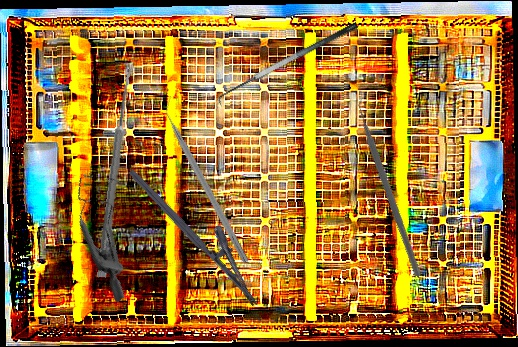Chopper: (296, 92, 489, 278), (157, 94, 258, 265)
Needle Holder: (126, 151, 278, 309)
Spatula Surgical: (213, 21, 365, 110)
Speculum: (37, 159, 180, 304)
Surgical Spoon: (96, 63, 135, 278)
